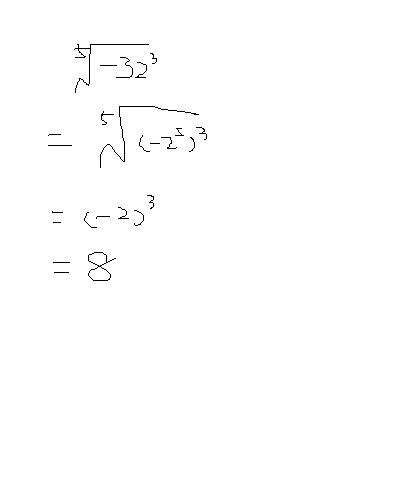cube: (143, 189, 155, 210), (147, 50, 159, 65), (197, 125, 208, 141)
